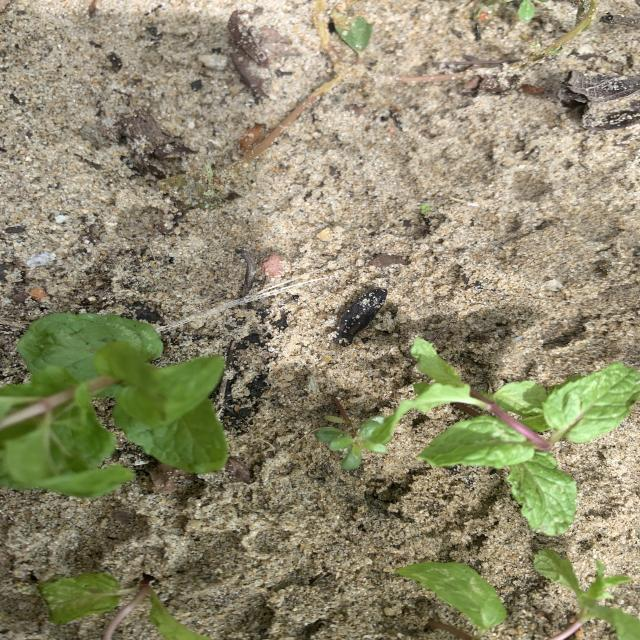crop: (375, 338, 640, 535), (0, 314, 228, 497), (37, 573, 215, 640), (534, 550, 640, 640), (395, 562, 506, 640)
weed: (315, 399, 387, 469)
